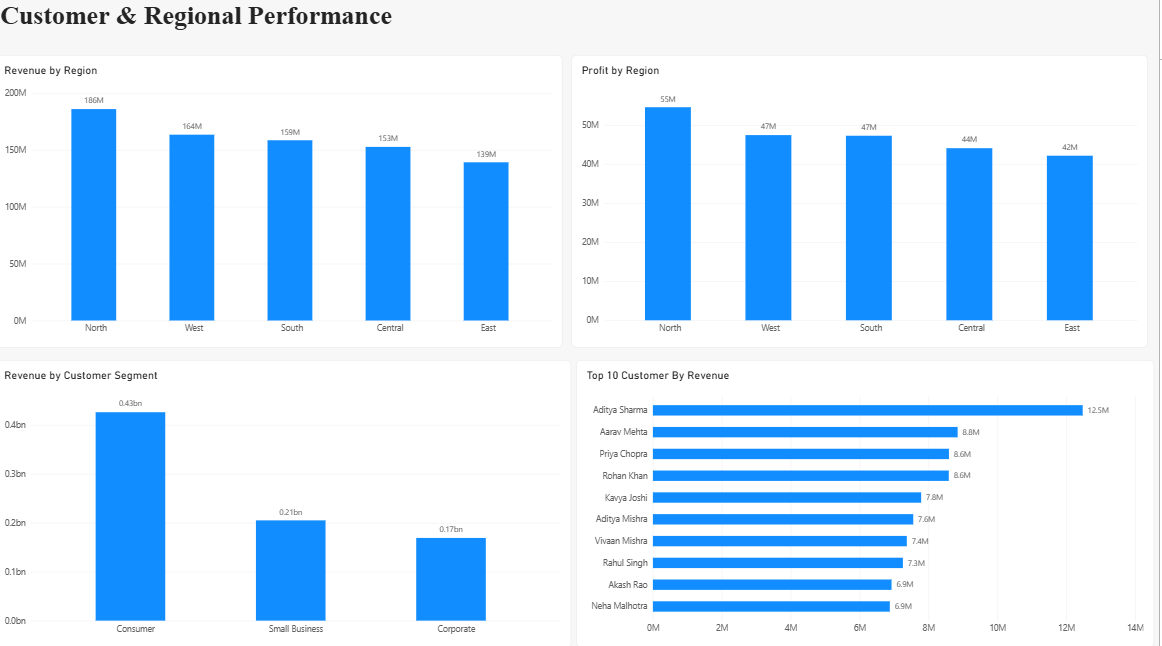

The page's visual inventory and layout, read from the dashboard file:
{"tool":"powerbi","page":{"name":"Customer & Regional Performance","canvas":[1920,1080],"ordinal":2},"visuals":[{"type":"textbox","box":[10,0,950,90],"z":0},{"type":"clusteredColumnChart","title":"Revenue by Region","fields":{"Category":["Dim_Region.Region"],"Y":["Fact_Sales.Total Revenue"]},"box":[0,90,936,482],"z":1000},{"type":"clusteredColumnChart","fields":{"Category":["Dim_Region.Region"],"Y":["Fact_Sales.Profit"]},"box":[950,90,950,450],"z":2000},{"type":"clusteredColumnChart","title":"Revenue by Customer Segment","fields":{"Category":["Dim_Customer.Segment"],"Y":["Fact_Sales.Total Revenue"]},"box":[0,592,950,474],"z":3000},{"type":"clusteredBarChart","title":"Top 10 Customer By Revenue","fields":{"Category":["Dim_Customer.CustomerName"],"Y":["Fact_Sales.Total Revenue"]},"box":[952,572,950,282],"z":4000}]}

Visuals, with their boxes in screenshot pixels (x1, y1, x2, y2), scaled from the page's 1920x1080 canvas onto the 1162x646 screenshot:
textbox: select_region(6, 0, 581, 54)
"Revenue by Region" clusteredColumnChart: select_region(0, 54, 566, 342)
clusteredColumnChart - Dim_Region.Region x Fact_Sales.Profit: select_region(575, 54, 1150, 323)
"Revenue by Customer Segment" clusteredColumnChart: select_region(0, 354, 575, 638)
"Top 10 Customer By Revenue" clusteredBarChart: select_region(576, 342, 1151, 511)
